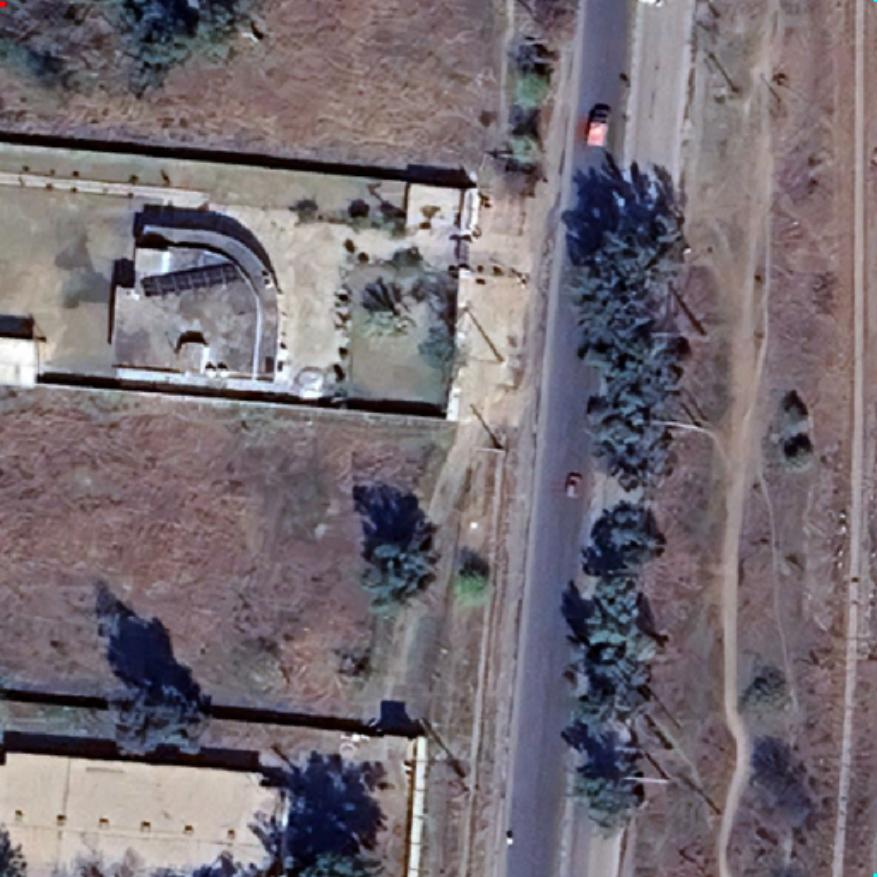Solarpanel: (139, 256, 247, 301)
